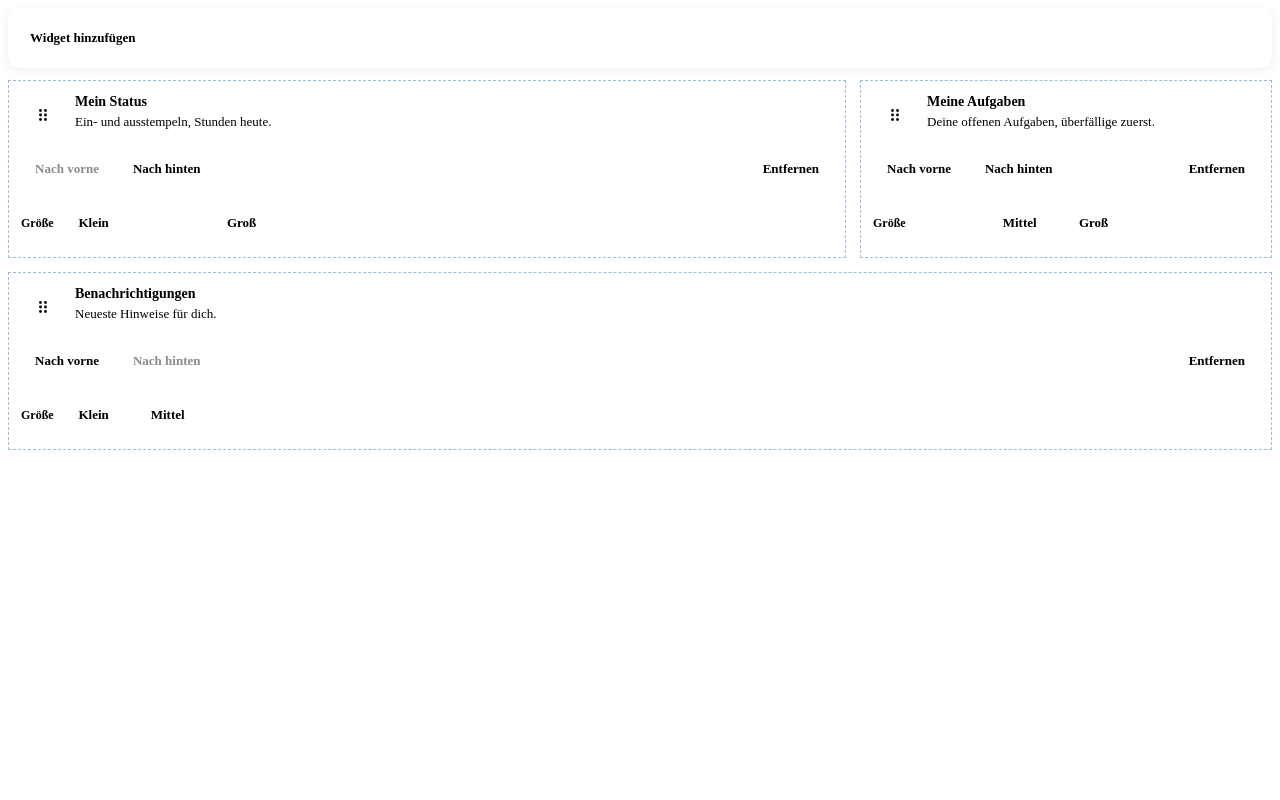
DashboardEditor — adding › says so when everything available is already placed
Click the button "Widget hinzufügen": point(83, 38) [16,16,150,60]
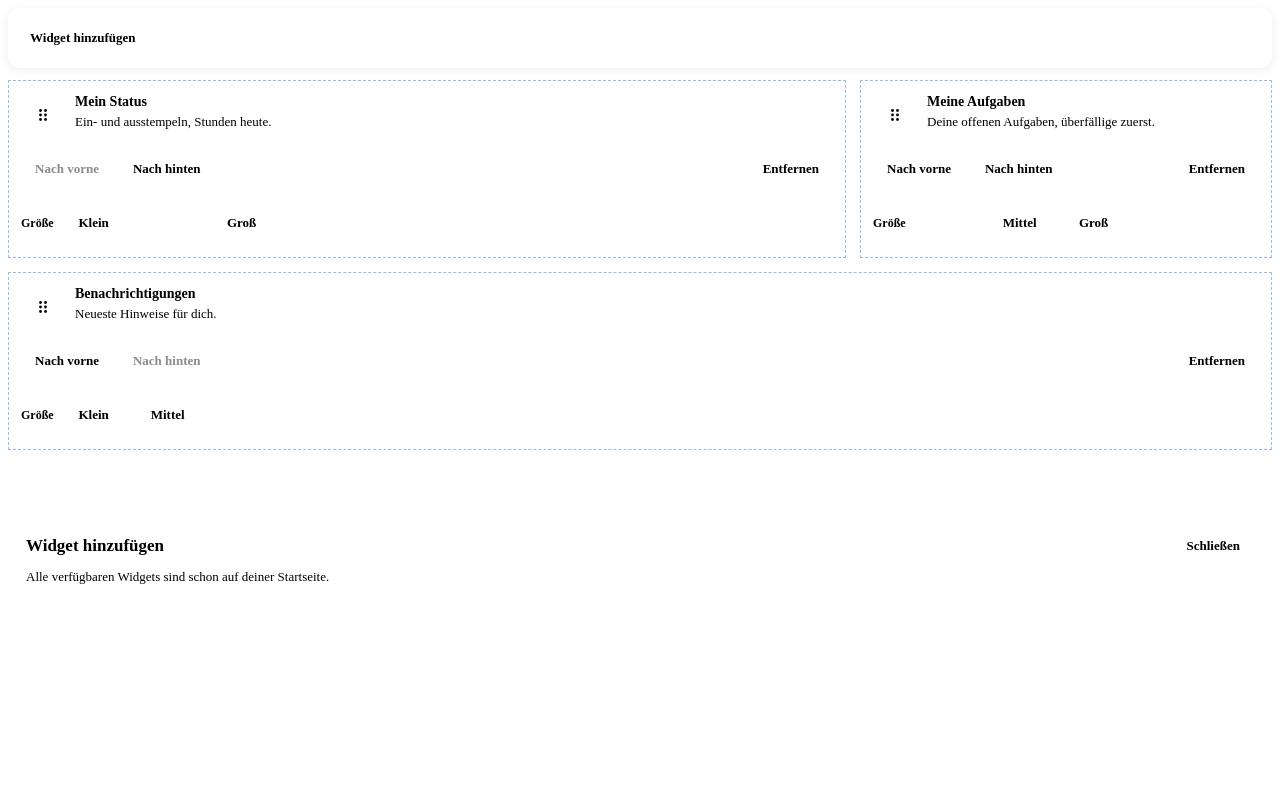
Check: the text "Alle verfügbaren Widgets sind schon auf deiner Startseite." is shown, box [26,569,329,584]
